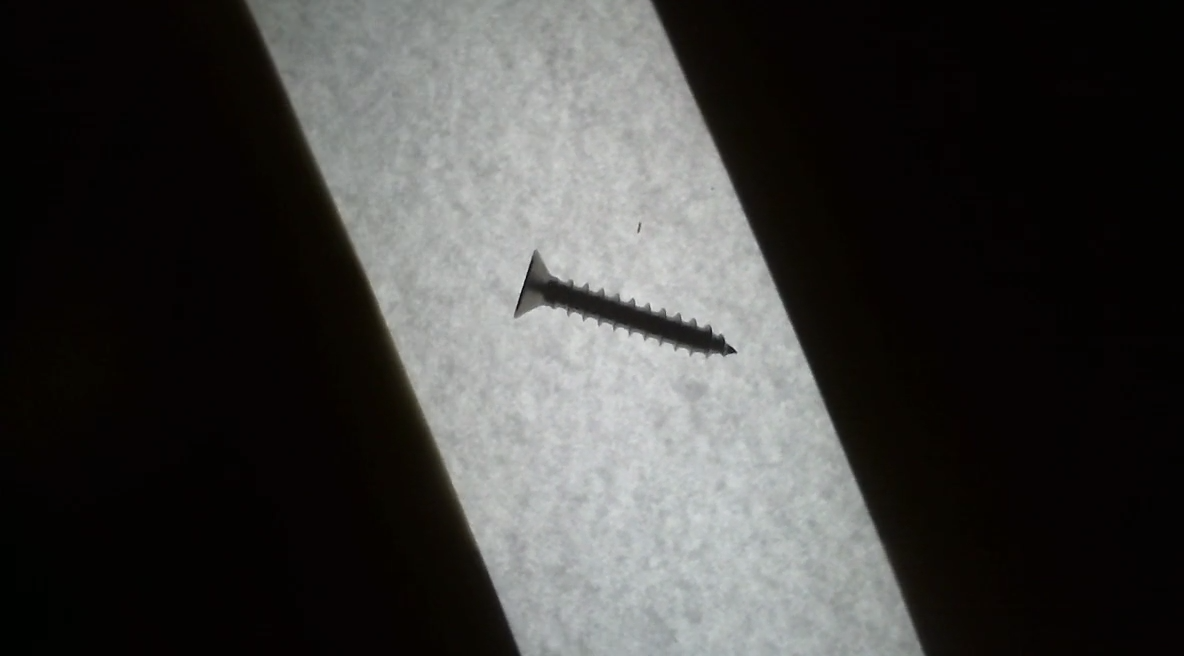S001: (498, 240, 756, 378)
